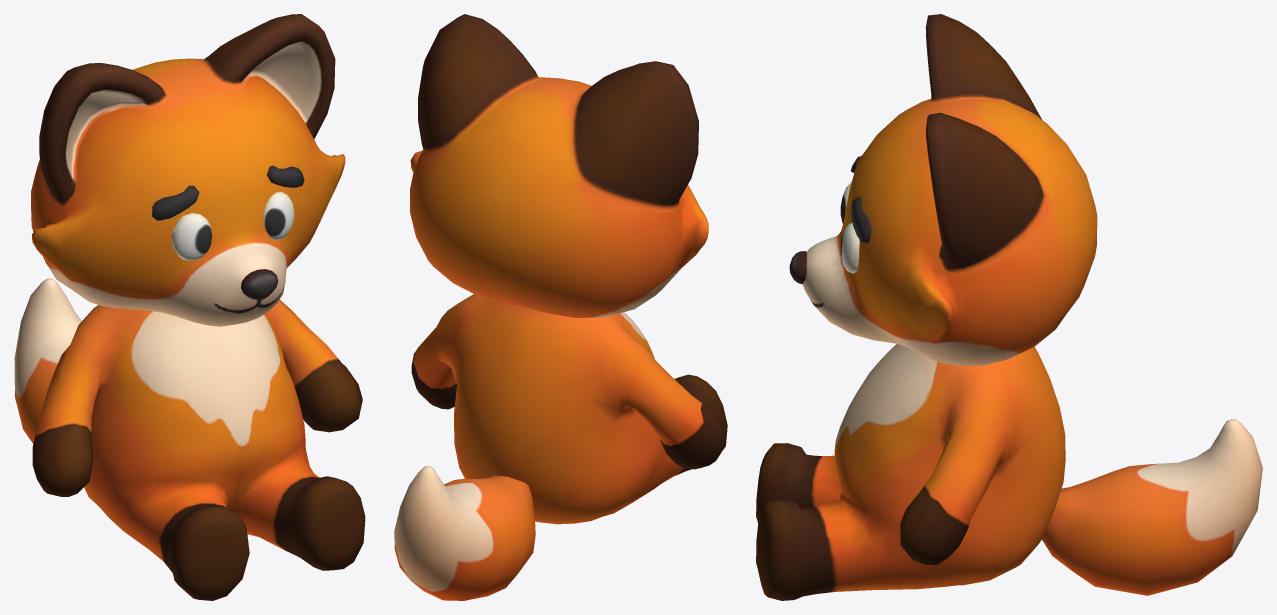
Rendered from HuLi.FBX.
The picture shows the model from 3 angles, left to right: view 1: azimuth 30°, elevation 25°; view 2: azimuth 150°, elevation 25°; view 3: azimuth 270°, elevation 25°; orthographic projection. The views are drawn at different scales.
Visible parts, largest first — view 1: HuLi; view 2: HuLi; view 3: HuLi.
Boxes of the visible parts, x1,y1,x2,y2 form: HuLi: (14,14,365,600); HuLi: (394,14,727,600); HuLi: (756,14,1262,600).
Bounding box in the file's own units: 79.63 × 120 × 106.
Materials: 1 (1 with a texture image).
